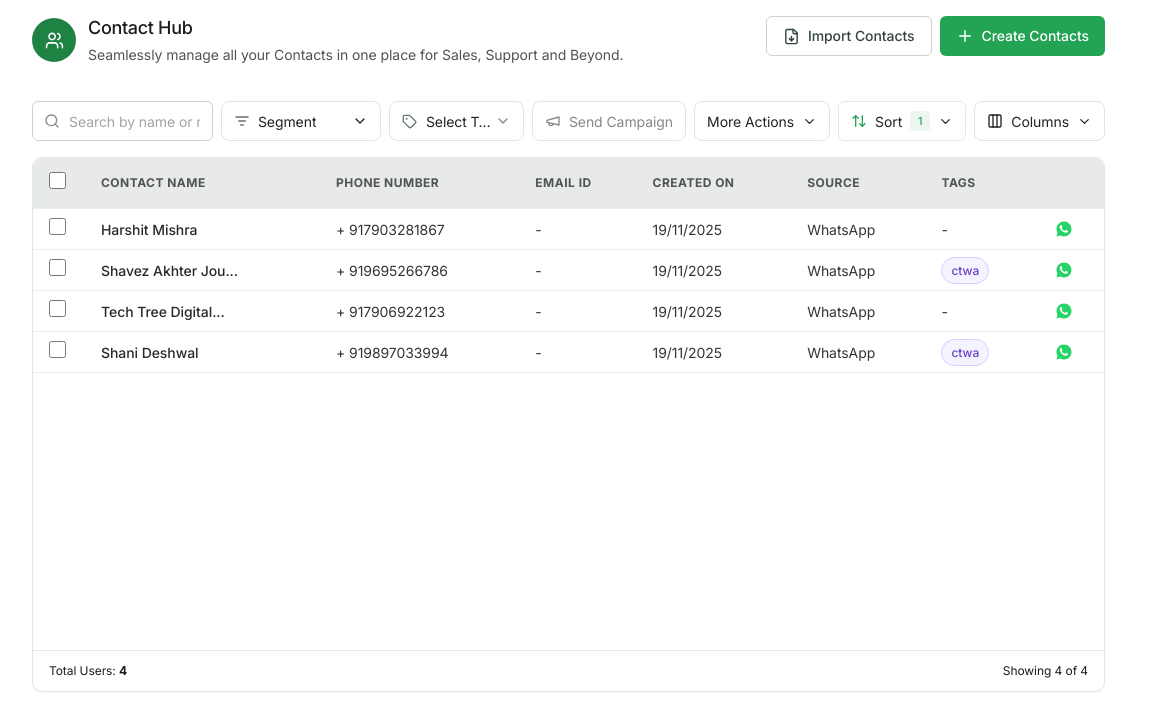
Test: ContactHub › uses a filter icon and applies a custom tag segment
Expected: the text "Shani Deshwal" is shown, [101,344,199,360]
Click the button "Segment" at (301, 121), box [221,101,381,141]
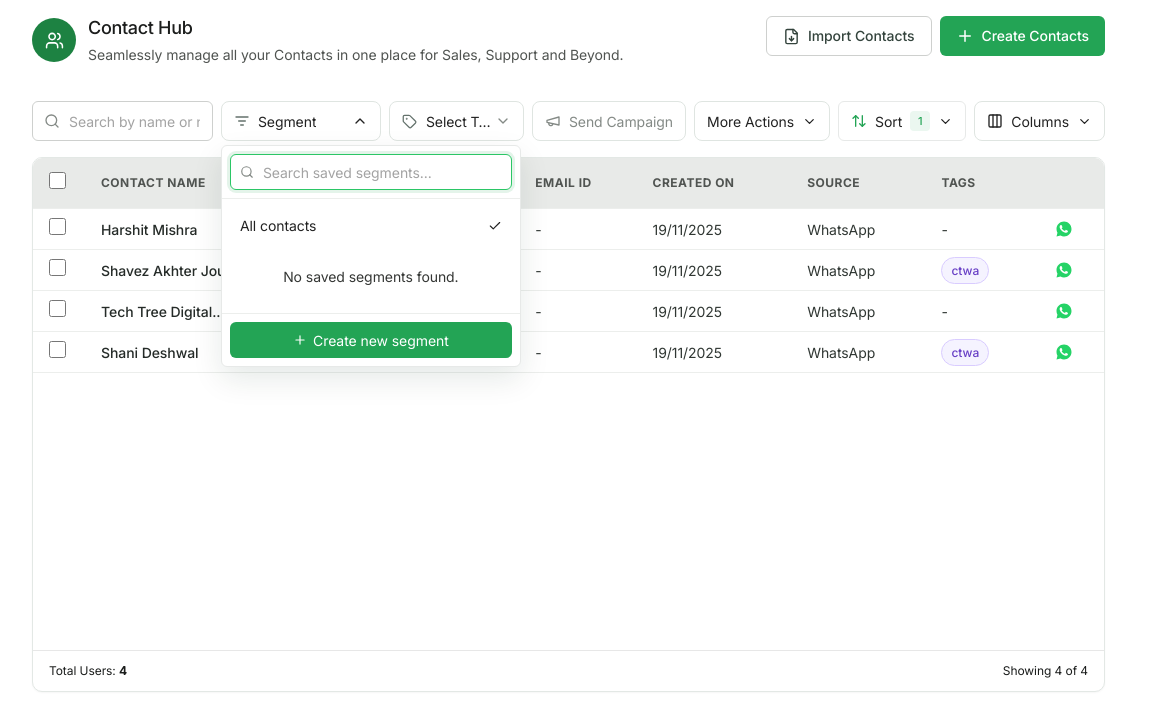
Expected: the field named "Search segments" is shown, [230,154,512,190]
Click the button "Create new segment" at (371, 340), box [230,322,512,358]
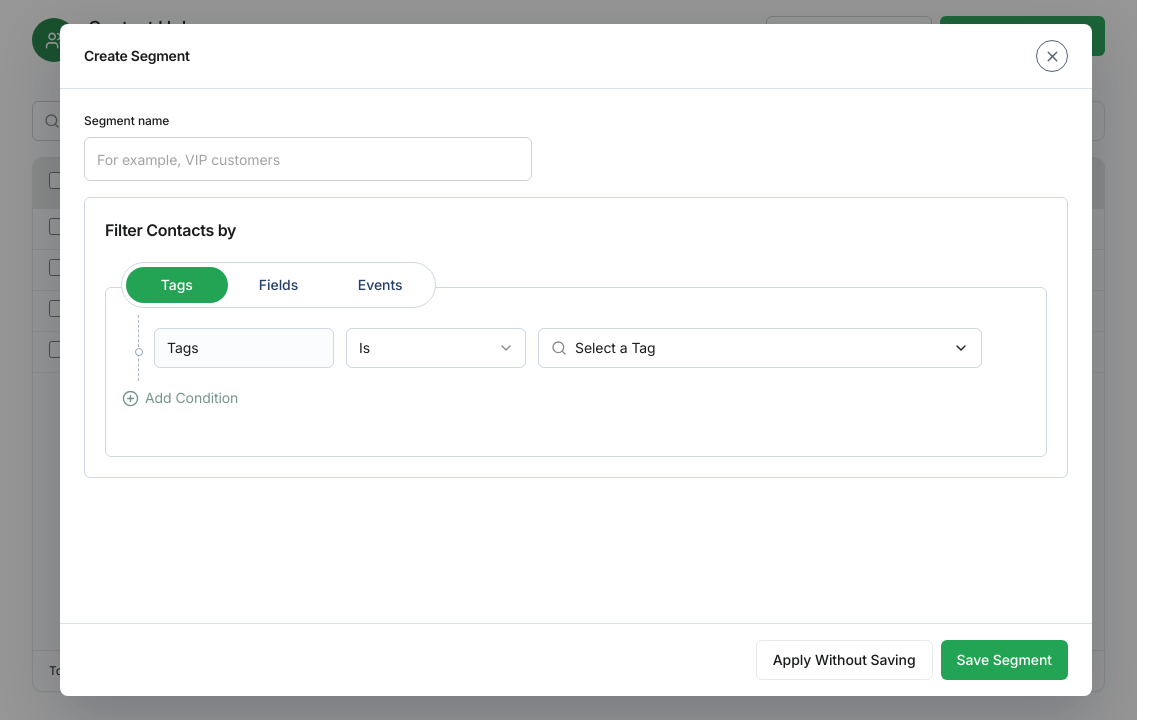
Expected: the heading "Create Segment" is shown, [84,46,190,66]
Click the button "Select a Tag" at (615, 348), box [538,328,982,368]
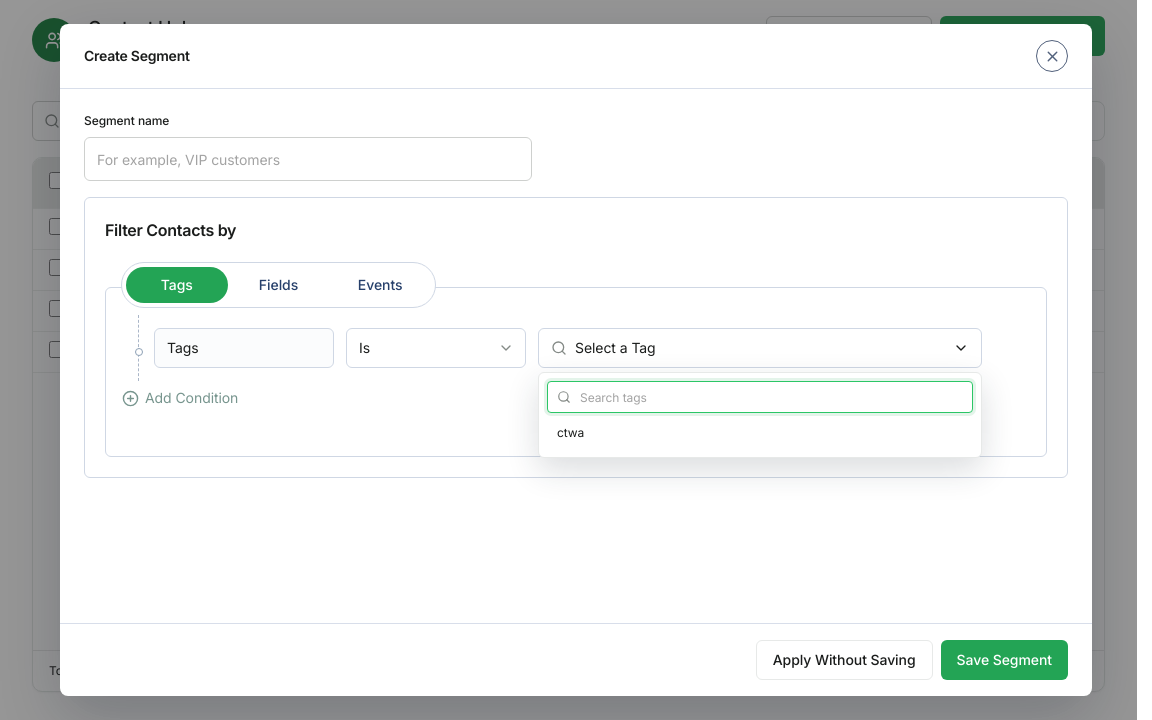
Type "ctw" into the field named "Search segment tags" at (760, 397), box [547,381,973,413]
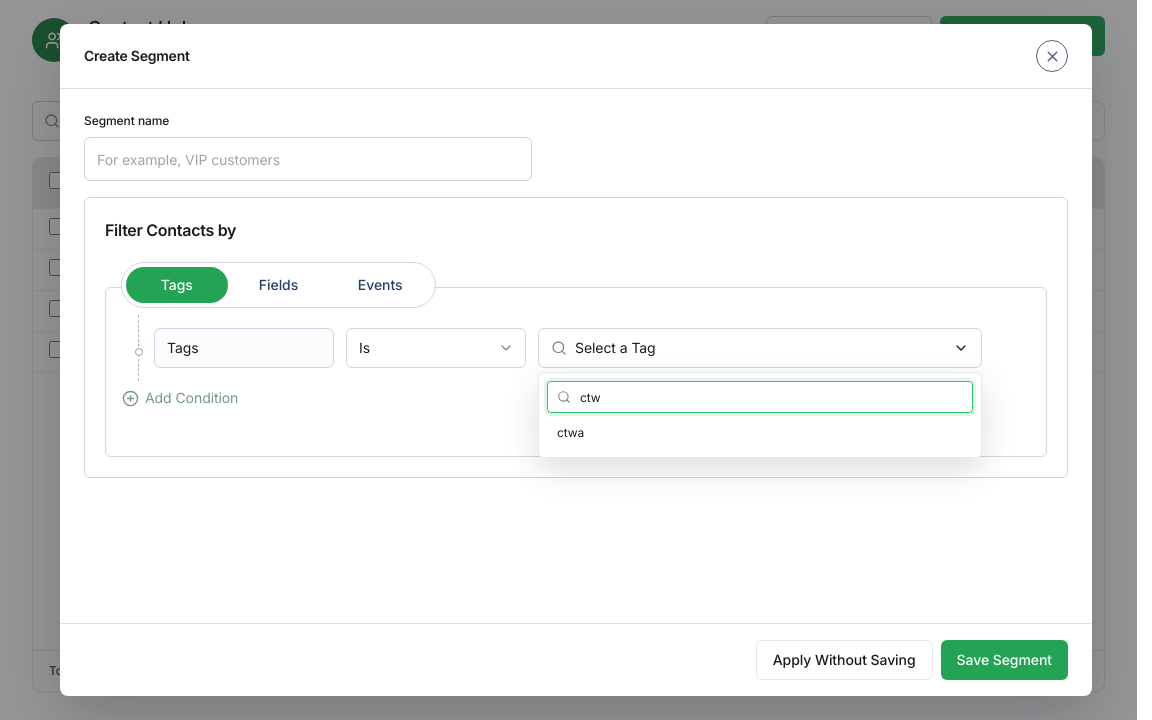
Click the option "ctwa" at (571, 432), box [547,417,973,449]
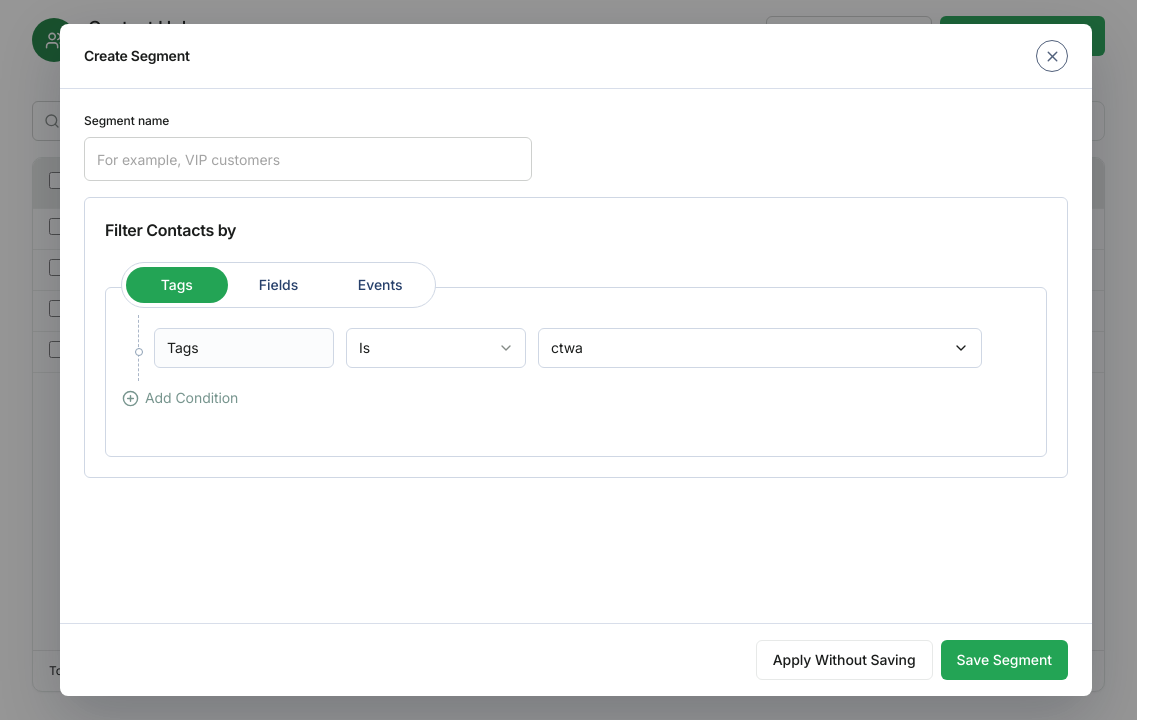
Click the button "Apply Without Saving" at (844, 660), box [756,640,932,680]
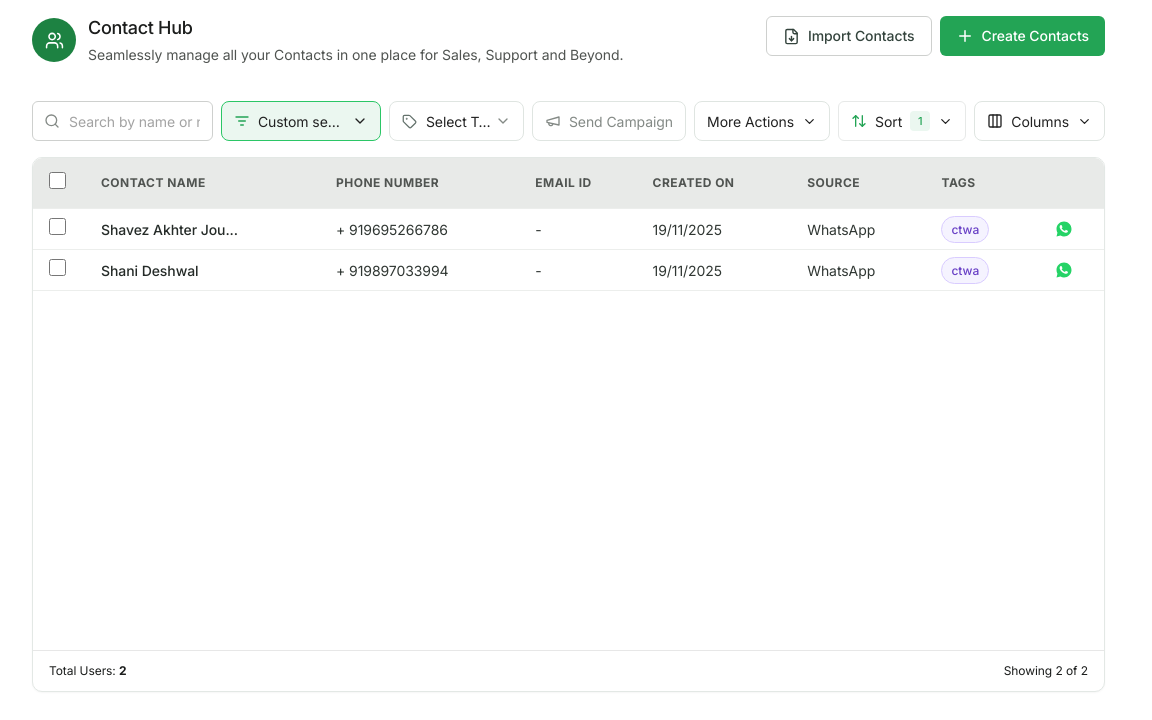
Expected: the text "Shani Deshwal" is shown, [101,262,199,278]
Expected: the heading "Create Segment" is gone
Expected: the text "Tech Tree Digital..." is gone
